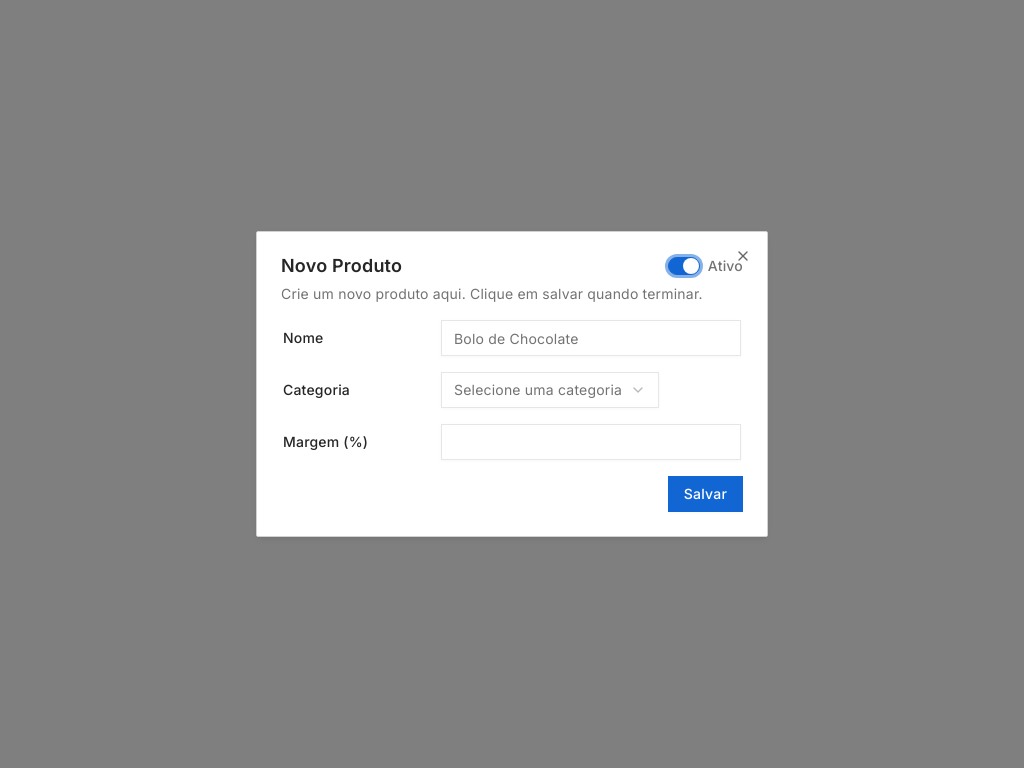
ProductsActionDialog › validates required fields before submitting
What coordinates should you click on to do the following:
click the button "Salvar"
I would click on:
 (705, 494)
Its box is [668, 476, 743, 512].
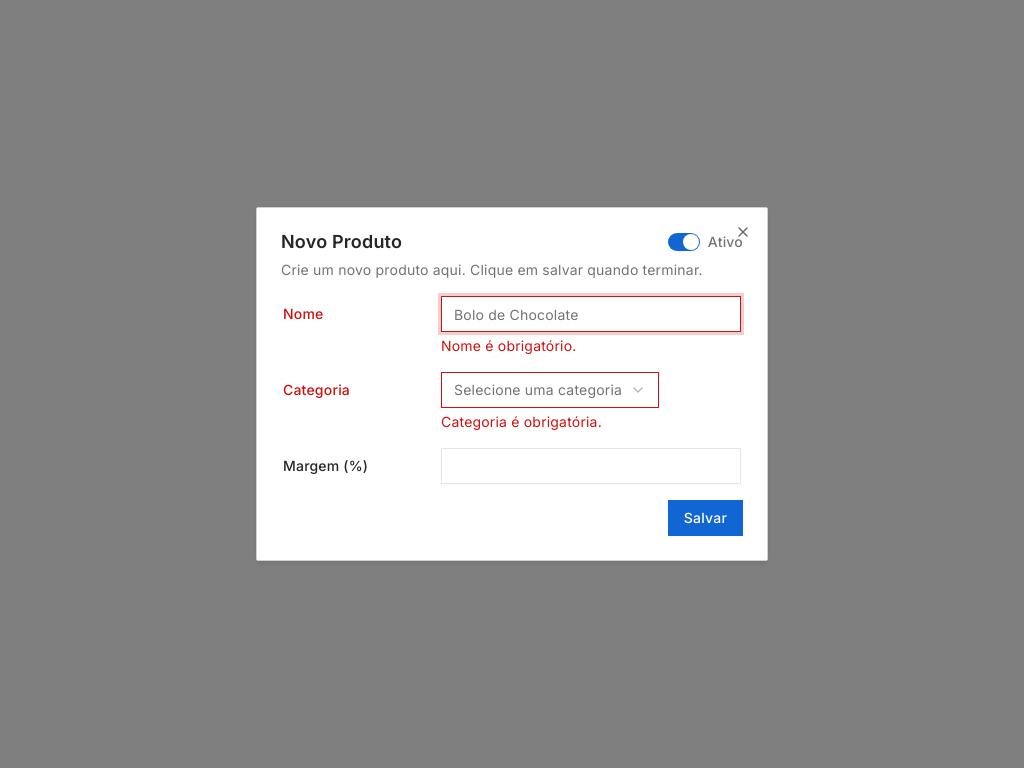
Expected: the text "Nome é obrigatório." is shown, [441, 337, 576, 354]
Expected: the text "Categoria é obrigatória." is shown, [441, 413, 602, 430]
